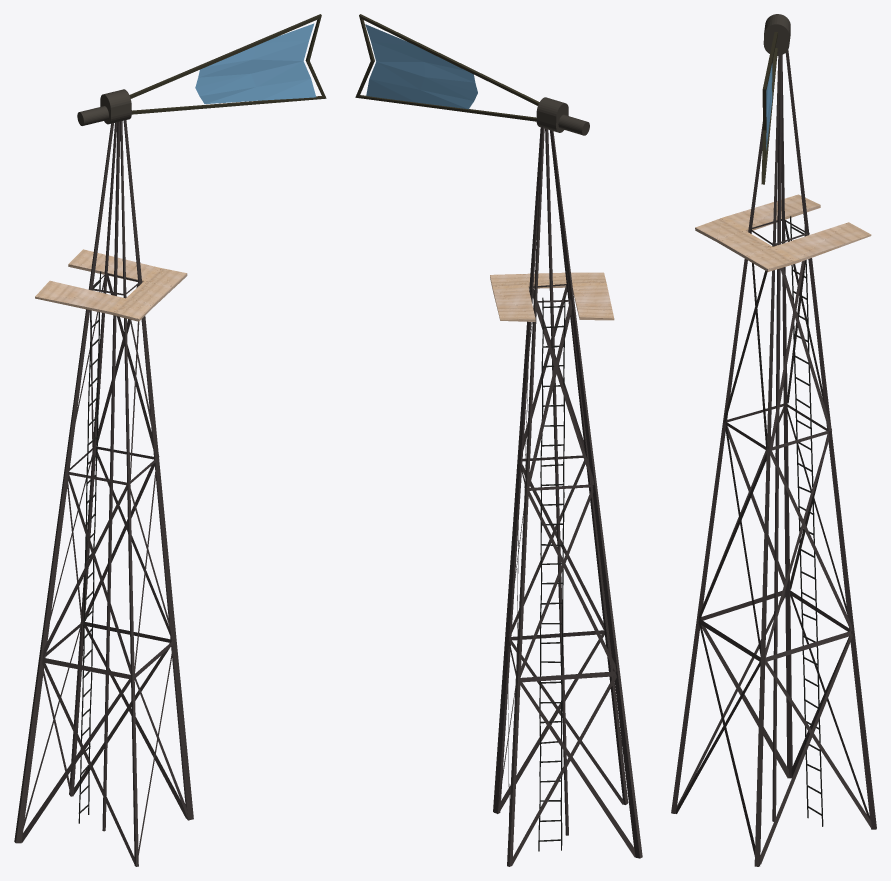
Rendered from corpoMoinho1.obj.
The picture shows the model from 3 angles, left to right: view 1: azimuth 30°, elevation 25°; view 2: azimuth 150°, elevation 25°; view 3: azimuth 270°, elevation 25°; orthographic projection. The views are drawn at different scales.
Visible parts, largest first — view 1: tail_frame_Plane.072; view 2: tail_frame_Plane.072; view 3: tail_frame_Plane.072.
Boxes of the visible parts, x1,y1,x2,y2 form: tail_frame_Plane.072: (14, 14, 326, 866); tail_frame_Plane.072: (355, 14, 642, 866); tail_frame_Plane.072: (671, 14, 876, 866).
Bounding box in the file's own units: 17.64 × 43.43 × 9.55.
Materials: 6 (1 with a texture image).
